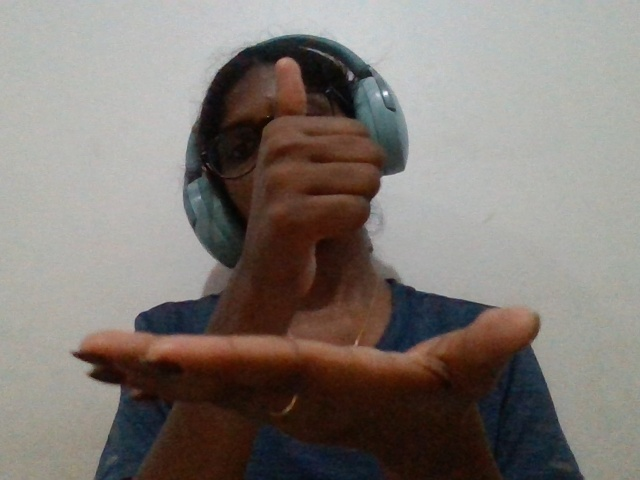Help: (23, 35, 591, 480)
